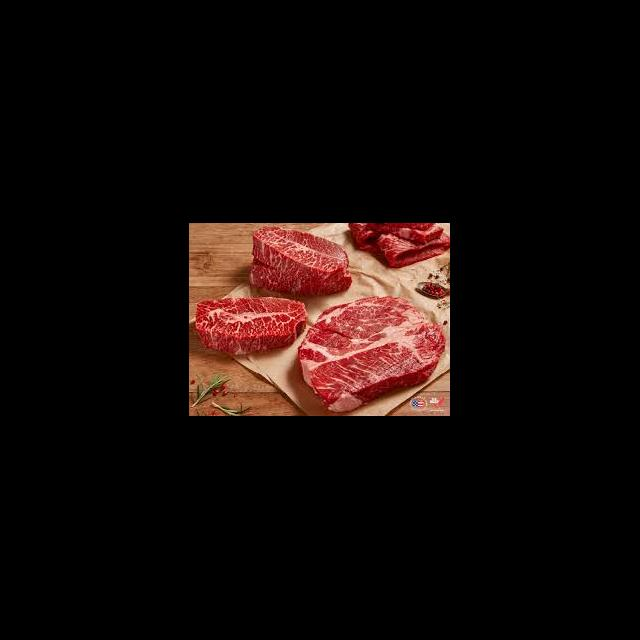beef: (299, 297, 444, 411), (251, 227, 352, 294), (194, 298, 308, 356)
